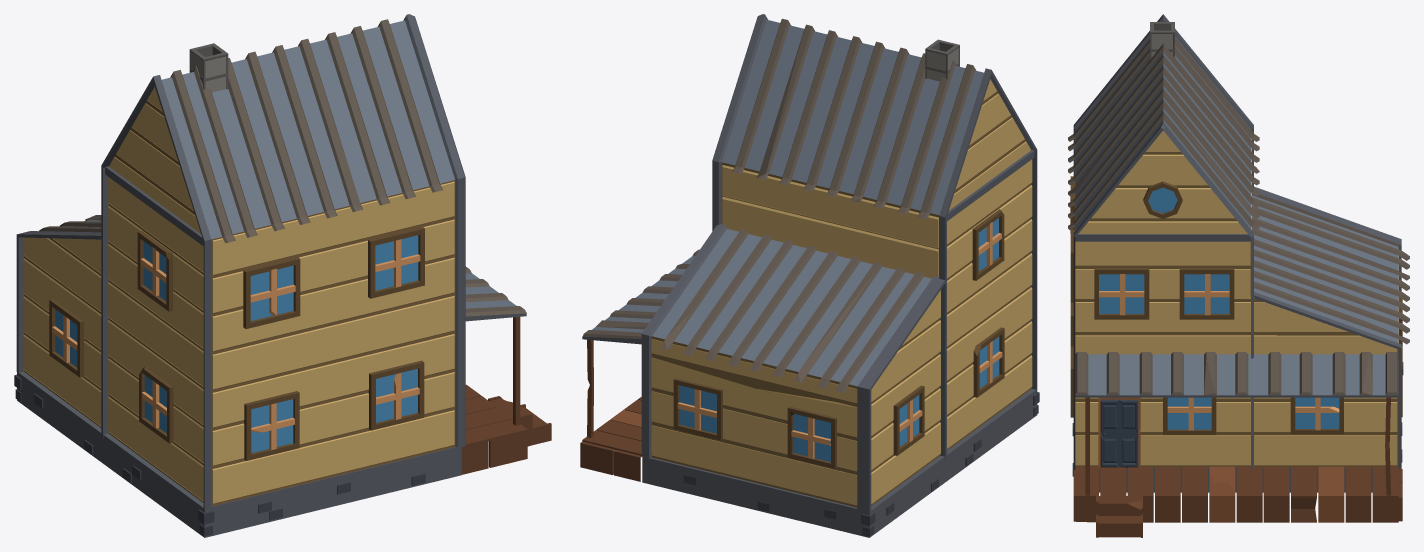
File: House_1.fbx
3 renders of one model, left to right at view 1: azimuth 30°, elevation 25°; view 2: azimuth 150°, elevation 25°; view 3: azimuth 270°, elevation 25°, orthographic. The views are drawn at different scales.
Visible parts, largest first — view 1: House_1; view 2: House_1; view 3: House_1.
Boxes of the visible parts, x1=… form: House_1: x1=14, y1=14, x2=551, y2=537; House_1: x1=580, y1=14, x2=1039, y2=537; House_1: x1=1068, y1=14, x2=1409, y2=537.
Bounding box in the file's own units: 963 × 1112 × 903.
